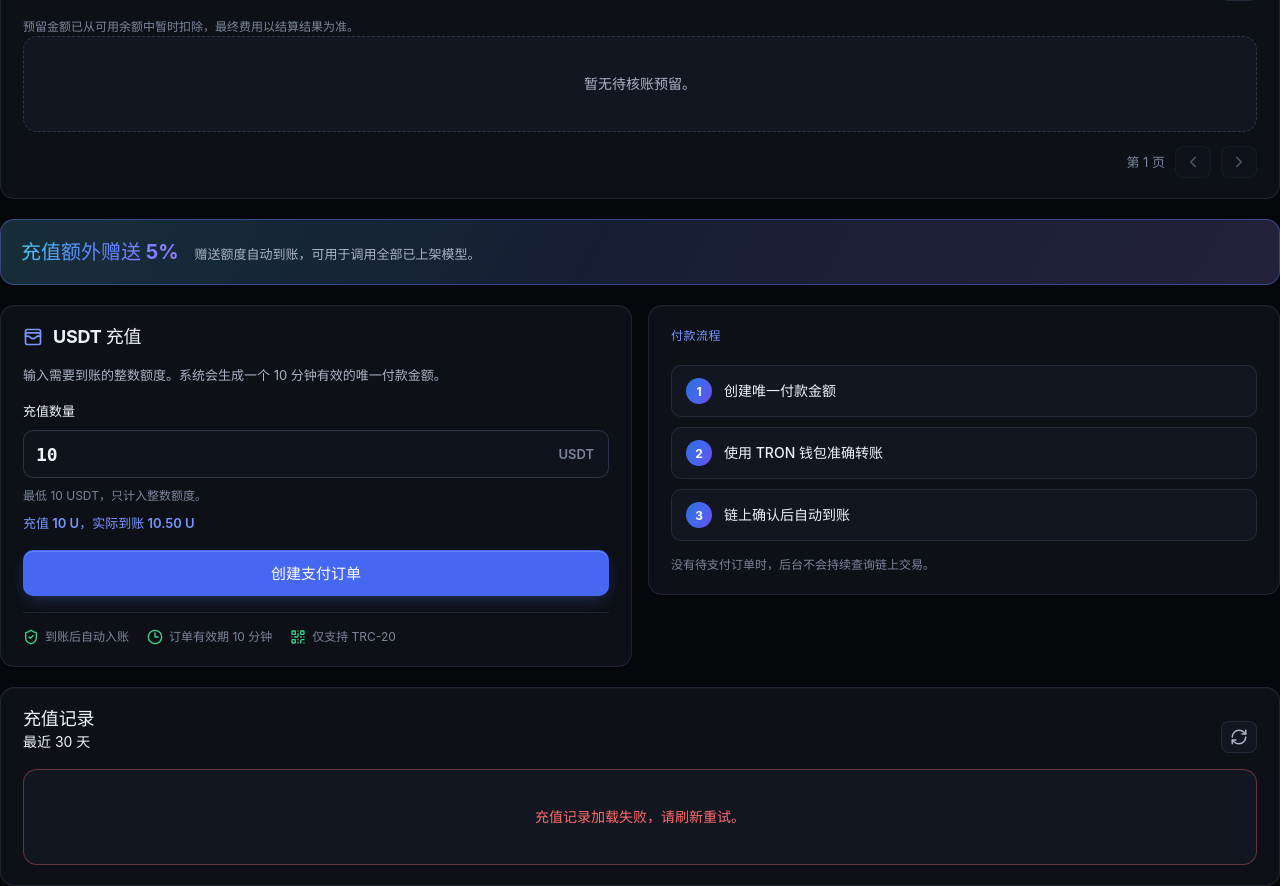
Test: recharge balance visibility › shows a retriable history error instead of claiming there are no orders
The image size is (1280, 886).
(page scrolled)
Check: the text "充值记录加载失败，请刷新重试。" is shown, box [23,769,1257,865]
Click the button named "刷新充值记录": {"x": 1239, "y": 737} [1221,721,1257,753]
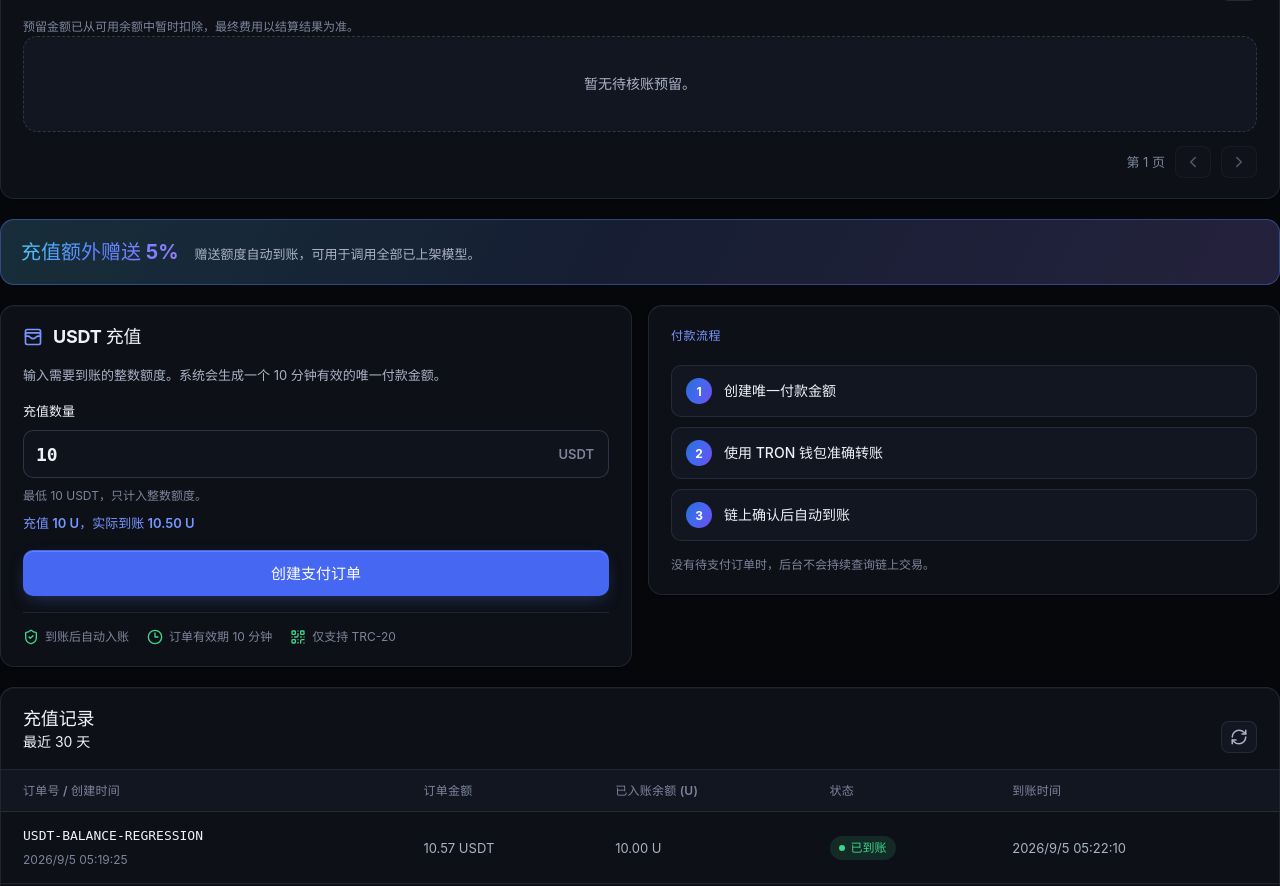
Check: the text "USDT-BALANCE-REGRESSION" is shown, box [23,828,203,844]
